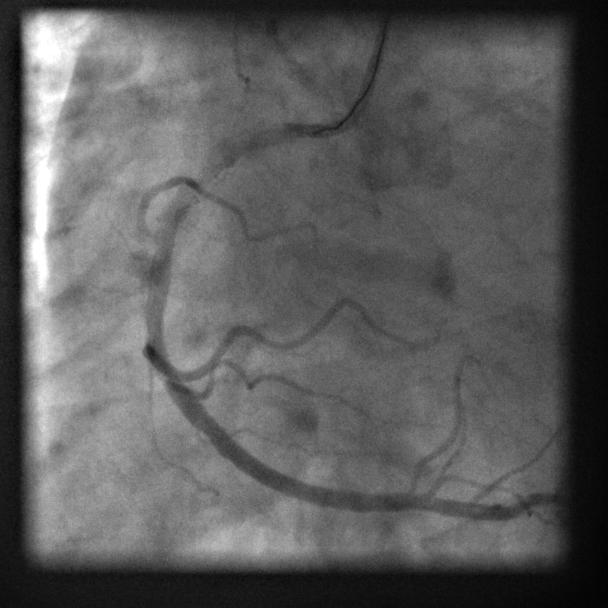Stenosis: (184, 153, 222, 204)
